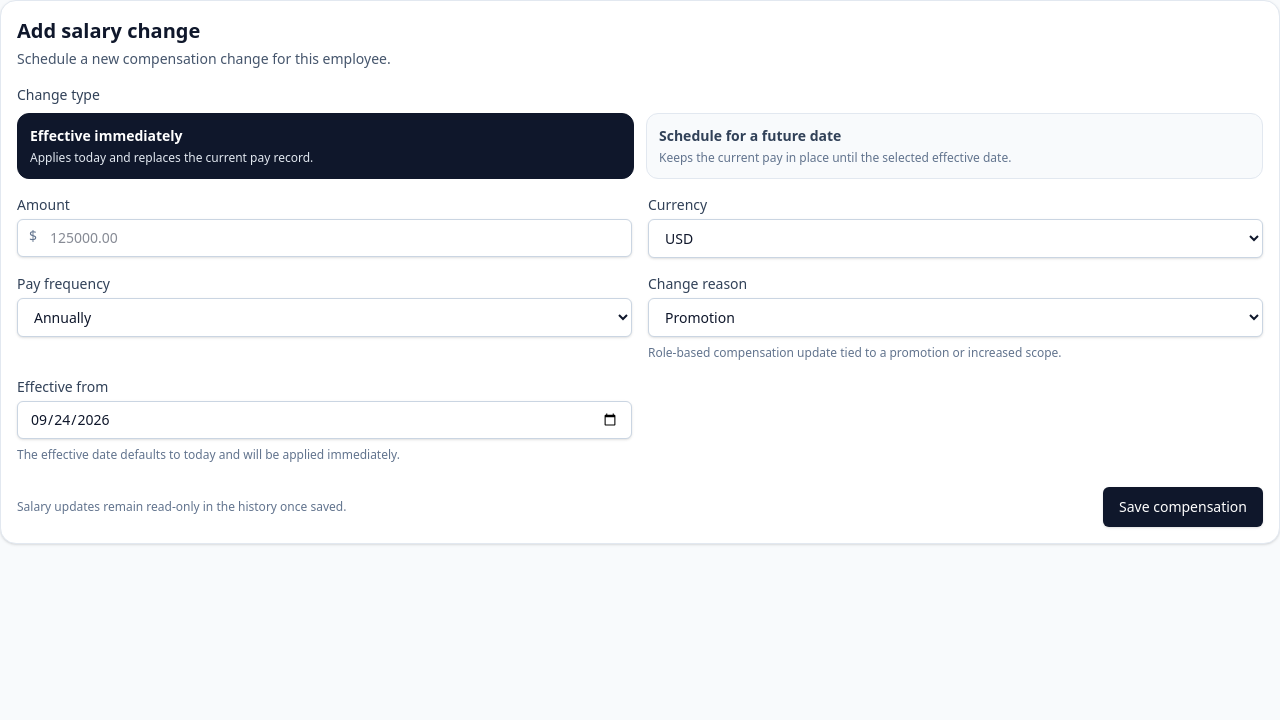
Test case: CompensationForm › shows backend validation errors
In the field labelled "Amount": (324, 238) x1=17 y1=219 x2=632 y2=257, type "1000.00"
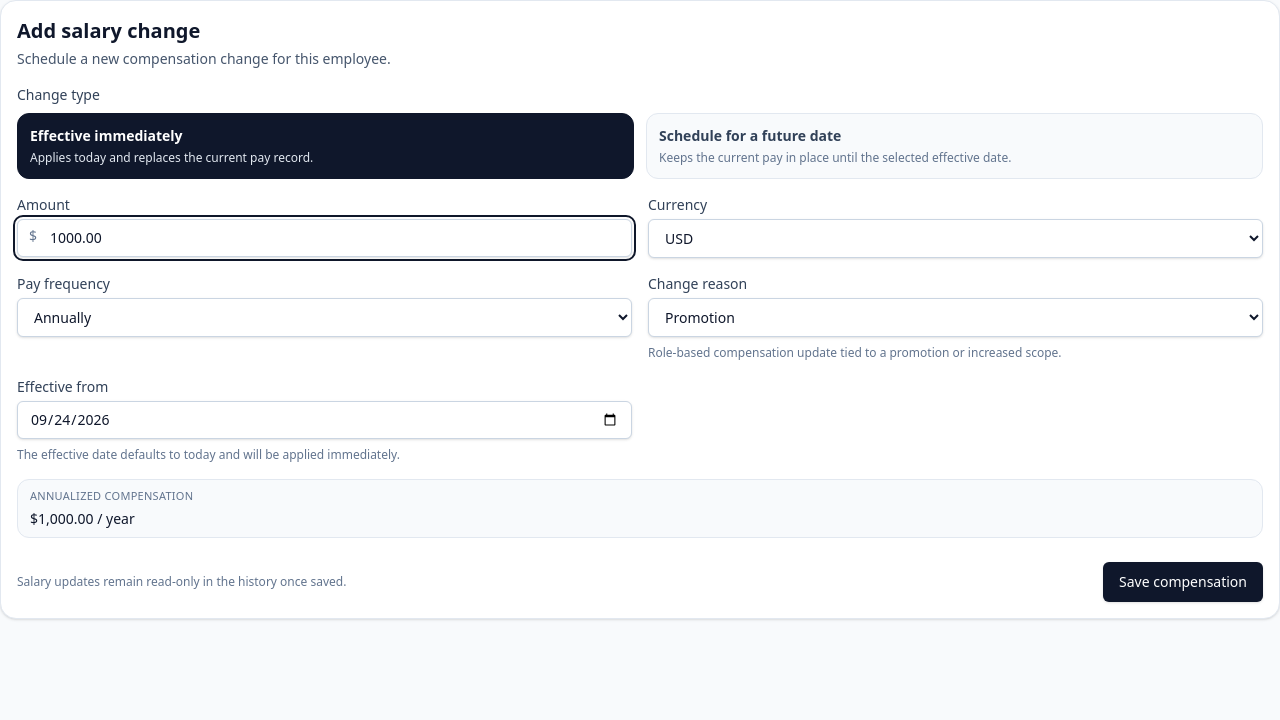
In the date field labelled "Effective from": (324, 420) x1=17 y1=401 x2=632 y2=439, type "2026-10-01"
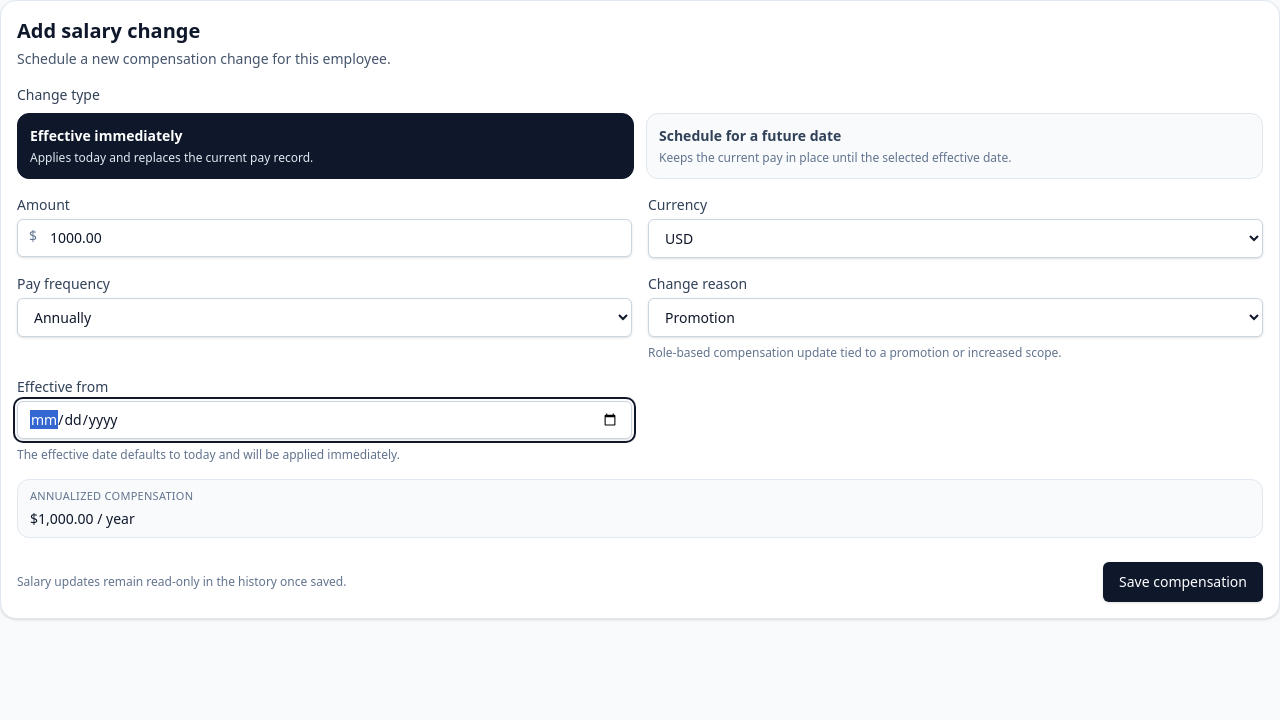
Click the button "Save compensation": click(1183, 582) x1=1103 y1=562 x2=1263 y2=602
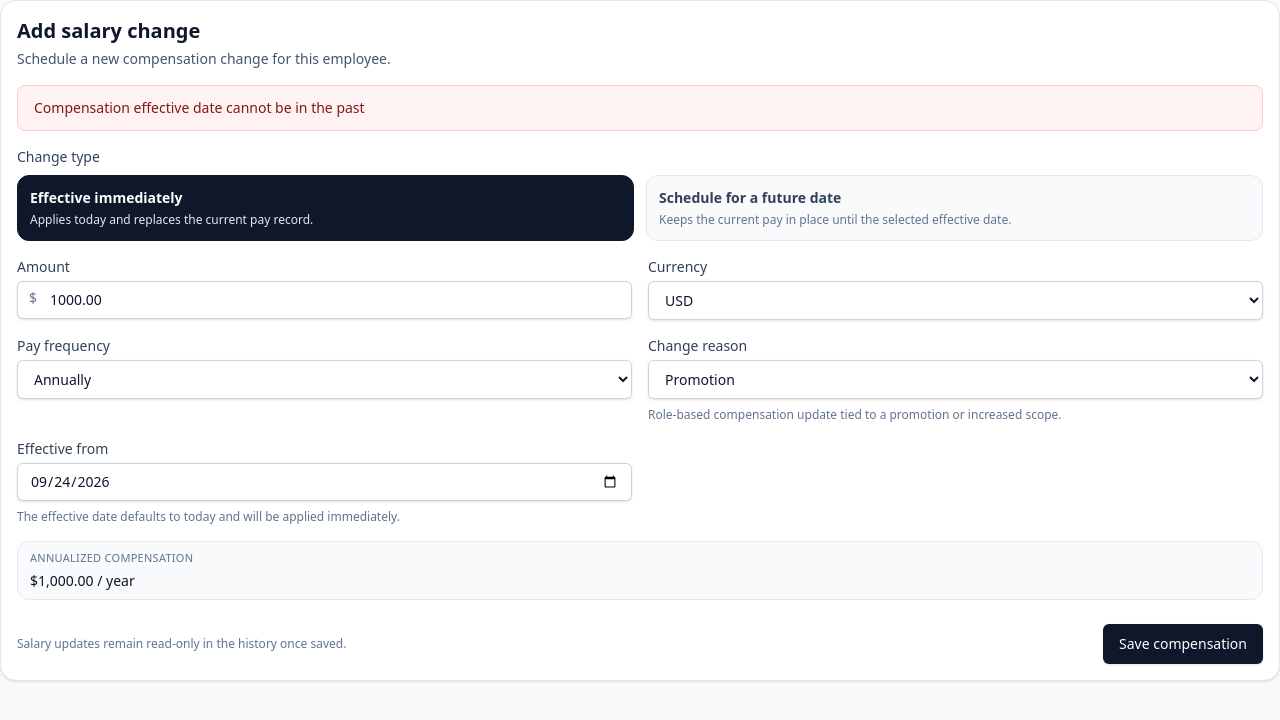
Check: the message reads "Compensation effective date cannot be in the past", box x1=34 y1=98 x2=365 y2=117
